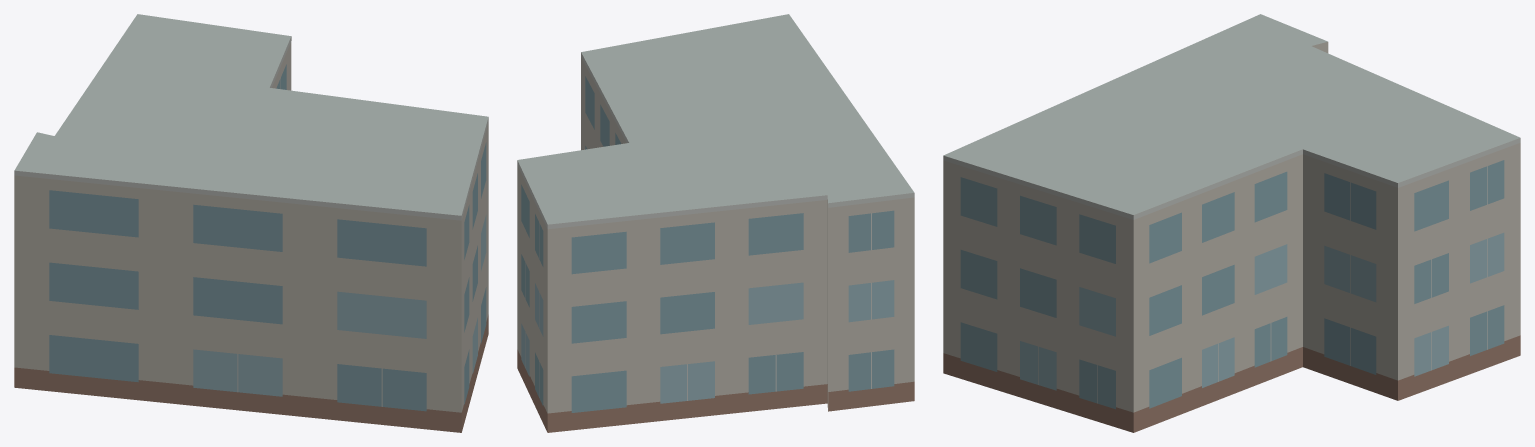
File: survey-upis-32499232.glb
3 renders of one model, left to right at view 1: azimuth 30°, elevation 25°; view 2: azimuth 150°, elevation 25°; view 3: azimuth 270°, elevation 25°, orthographic. The views are drawn at different scales.
Visible parts, largest first — view 1: survey-upis-32499232.tmp; view 2: survey-upis-32499232.tmp; view 3: survey-upis-32499232.tmp.
Part boxes in pixels (bbox=[...]): survey-upis-32499232.tmp: bbox=[14, 14, 488, 432]; survey-upis-32499232.tmp: bbox=[517, 14, 914, 432]; survey-upis-32499232.tmp: bbox=[943, 14, 1520, 432].
Size of the model in its own units: 21.68 by 10.94 by 26.3.
